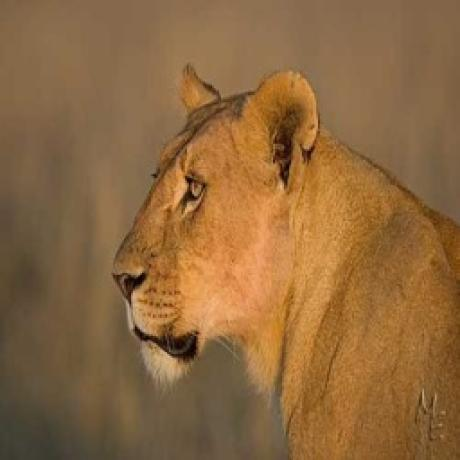Lion: (108, 55, 460, 460)
